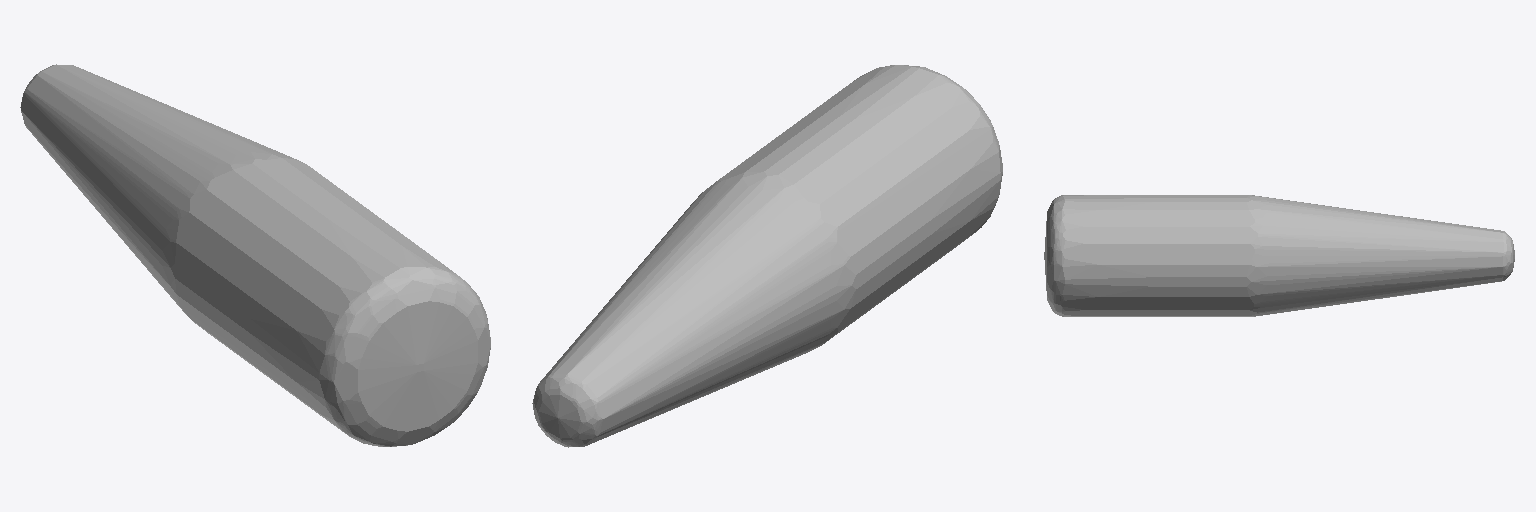
The robot description file, URDF, robot "root":
<?xml version="1.0"?>
<robot name="root">
  <link name="base_link">
    <visual>
      <origin xyz="0 0 0" rpy="0 0 0" />
      <geometry>
        <mesh filename="../meshes/unidex_core_bottle-621e786d6343d3aa2c96718b14a4add9_006.obj" scale="1.0000E+00 1.0000E+00 1.0000E+00" />
      </geometry>
      <material name="">
        <color rgba="7.50E-01 7.50E-01 7.50E-01 1" />
      </material>
    </visual>
    <collision>
      <origin xyz="0 0 0" rpy="0 0 0" />
      <geometry>
        <mesh filename="../meshes/unidex_core_bottle-621e786d6343d3aa2c96718b14a4add9_006.obj" scale="1.0000E+00 1.0000E+00 1.0000E+00" />
      </geometry>
    </collision>
  </link>
</robot>

--- What the picture shows (computed from the rendered views, not written in the file) ---
3 views of the same robot in one strip: view 1: azimuth 30°, elevation 25°; view 2: azimuth 150°, elevation 25°; view 3: azimuth 270°, elevation 25° (orthographic).
Robot: root — 1 links, 0 joints (none); root link base_link; default pose: all joints at 0.
Links seen in each view (by area): view 1: base_link; view 2: base_link; view 3: base_link.
Link boxes in pixels (x1,y1,x2,y2): base_link: (20,64,490,446); base_link: (532,65,1002,447); base_link: (1044,195,1514,316).
Size in the robot's own frame: 0.0305 by 0.1168 by 0.0305 metres.
1 mesh visuals loaded from 1 distinct referenced files (1 OBJ).
